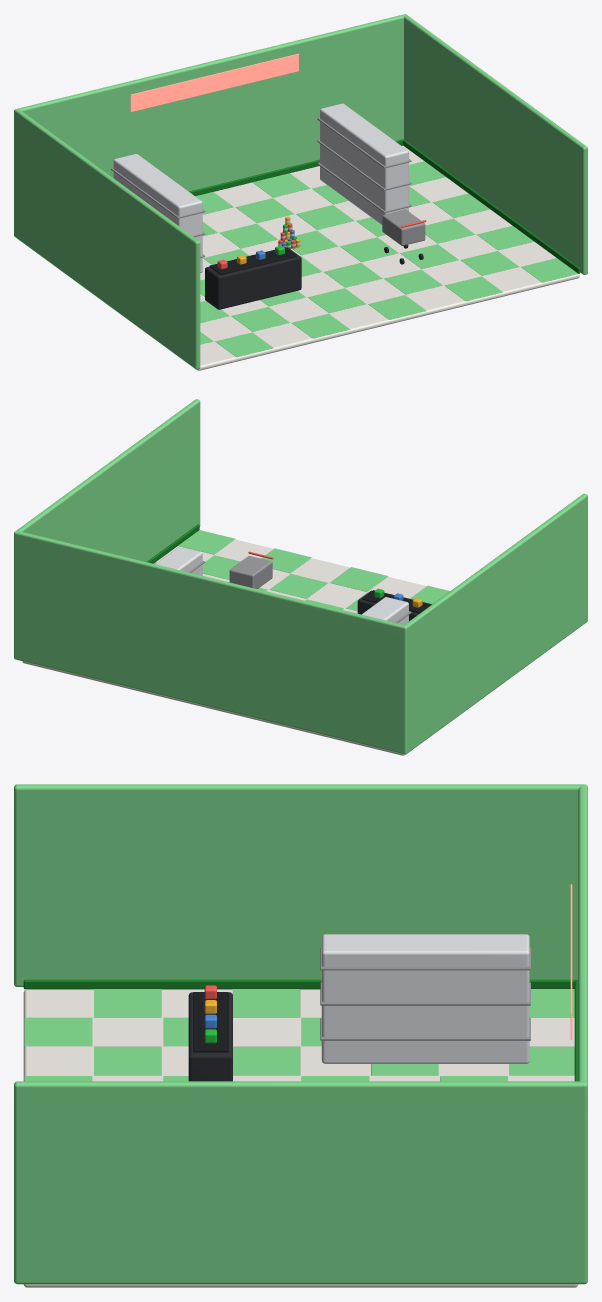
The model's file is chaotic_supermarket.glb.
3 renders of one model, top to bottom at view 1: azimuth 30°, elevation 25°; view 2: azimuth 150°, elevation 25°; view 3: azimuth 270°, elevation 25°, orthographic. The views are drawn at different scales.
Visible parts, largest first — view 1: Set, Flat_001, Glow, Part_146, Flat_033, Flat_013, Flat_019, Flat_024, Flat_017, Flat_022, Flat_025, Flat_027 (+14 smaller); view 2: Set, Flat_001, Part_146, Flat_029, Flat_025, Flat_041, Flat_033, Flat_037; view 3: Set, Flat_001, Flat_009, Flat_012, Flat_013, Flat_004, Flat_005, Flat_010, Flat_002, Flat_011, Flat_008.
Boxes of the visible parts, x1,y1,x2,y2 form: Set: (14, 14, 587, 369); Flat_001: (197, 145, 579, 370); Glow: (130, 53, 298, 111); Part_146: (382, 209, 425, 245); Flat_033: (444, 276, 502, 301); Flat_013: (231, 307, 289, 331); Flat_019: (219, 223, 277, 248); Flat_024: (324, 263, 382, 287); Flat_017: (292, 313, 349, 338); Flat_022: (235, 198, 293, 222); Flat_025: (368, 295, 426, 319); Flat_027: (296, 205, 354, 229); Set: (14, 399, 587, 754); Flat_001: (22, 539, 426, 755); Part_146: (229, 556, 272, 588); Flat_029: (269, 574, 327, 598); Flat_025: (330, 567, 388, 591); Flat_041: (178, 530, 235, 554); Flat_033: (261, 548, 311, 573); Flat_037: (202, 555, 240, 579); Set: (14, 784, 587, 1284); Flat_001: (23, 989, 578, 1287); Flat_009: (24, 1017, 92, 1046); Flat_012: (233, 1046, 300, 1075); Flat_013: (94, 1046, 161, 1075); Flat_004: (232, 989, 300, 1017); Flat_005: (94, 989, 161, 1017); Flat_010: (509, 1046, 574, 1075); Flat_002: (529, 989, 574, 1017); Flat_011: (371, 1064, 438, 1075); Flat_008: (163, 1017, 188, 1046).
Bounding box in the file's own units: 10.28 × 3.32 × 8.28.
